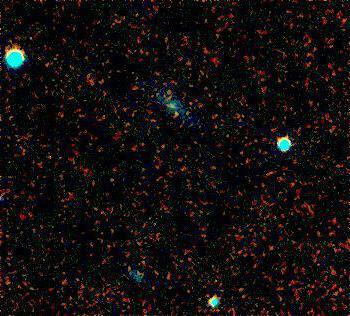star: (163, 99, 193, 129)
